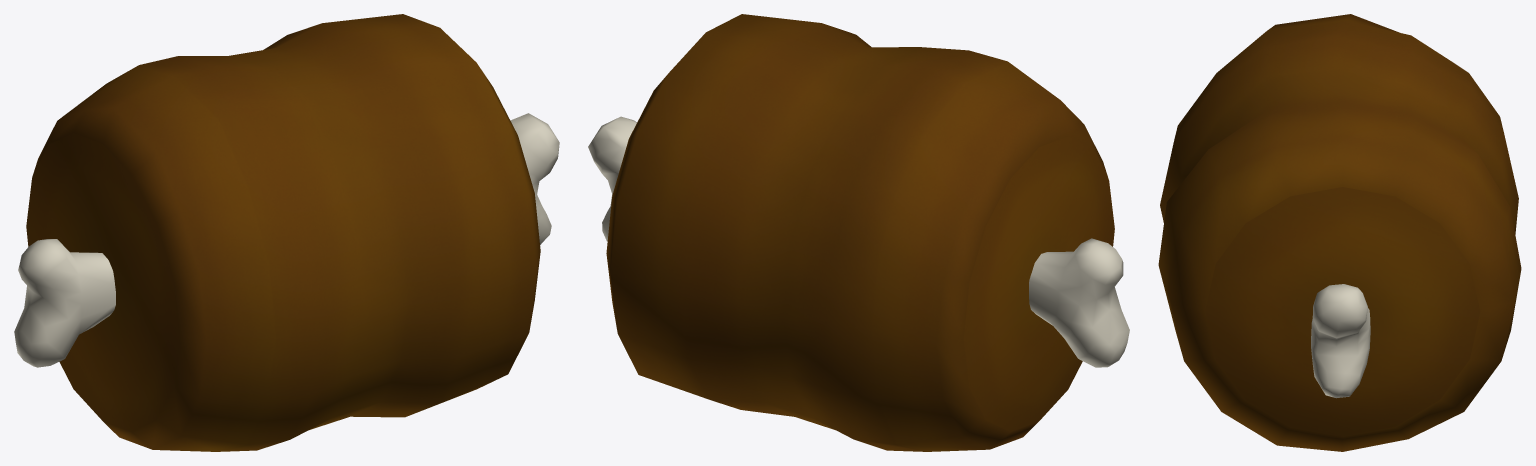
Rendered from cartoonmeat.fbx.
The picture shows the model from 3 angles, left to right: view 1: azimuth 30°, elevation 25°; view 2: azimuth 150°, elevation 25°; view 3: azimuth 270°, elevation 25°; orthographic projection. The views are drawn at different scales.
Visible parts, largest first — view 1: cartoonmeat; view 2: cartoonmeat; view 3: cartoonmeat.
Part boxes in pixels (x1,y1,x2,y2): cartoonmeat: [14, 14, 559, 451]; cartoonmeat: [588, 14, 1129, 451]; cartoonmeat: [1158, 14, 1521, 451].
Bounding box in the file's own units: 140 × 90.81 × 92.65.
